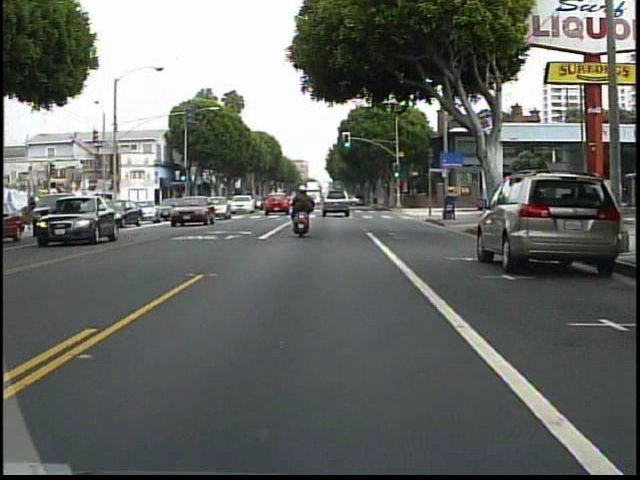person: (289, 182, 320, 236)
